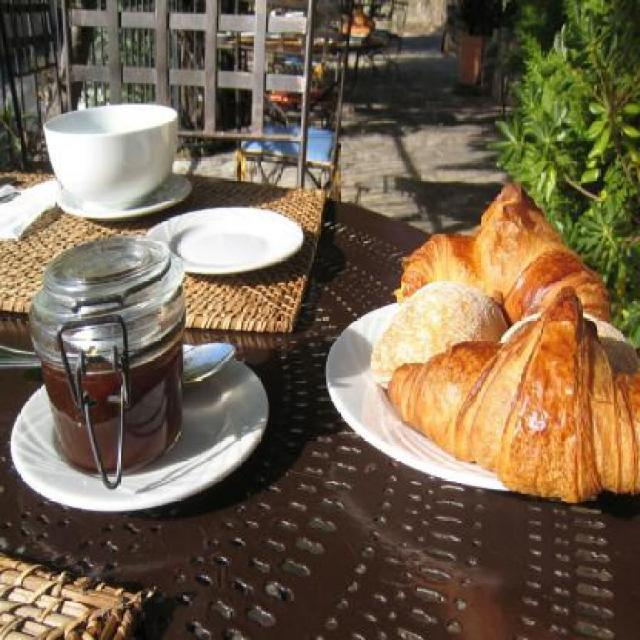Croissant: (386, 290, 640, 507), (392, 178, 614, 326)
